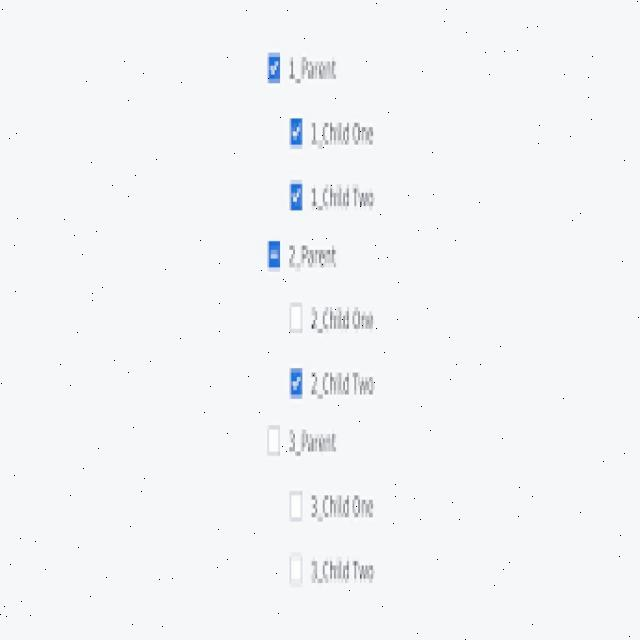checkbox: (288, 366, 303, 400), (288, 182, 304, 212), (289, 117, 304, 148), (266, 427, 280, 457), (290, 554, 304, 584), (268, 52, 281, 84), (268, 238, 281, 268), (289, 493, 304, 519), (290, 304, 302, 332)
label: (307, 490, 380, 526), (309, 178, 379, 215), (308, 367, 379, 403), (308, 302, 378, 338), (308, 553, 379, 588), (308, 118, 380, 152), (285, 241, 341, 274), (284, 426, 340, 459), (285, 52, 341, 84)
